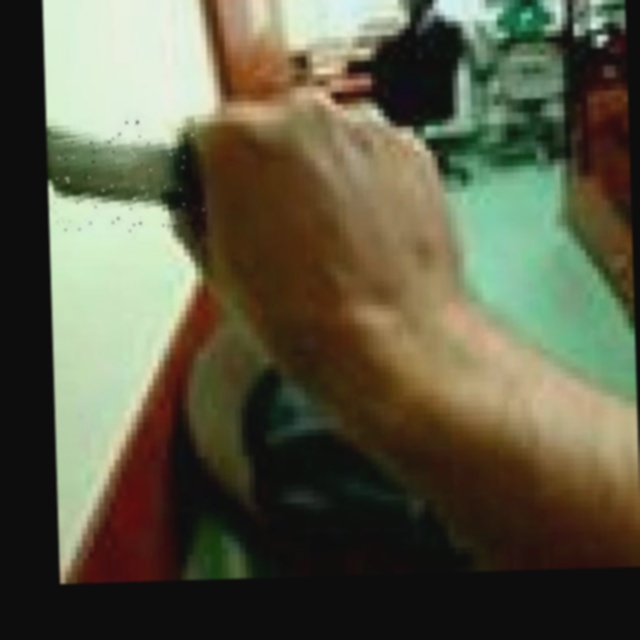Sharp-Object: (50, 119, 205, 236)
